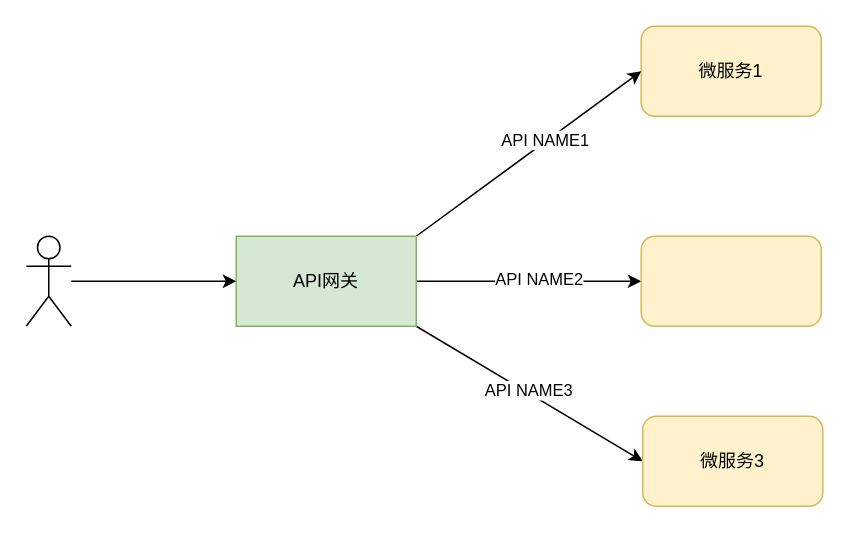
Some shapes in this 849 by 533 pixel diagram are drawn without their labels. The box of each missing label's shape, as (x1, y1, x2, y2) in pixels:
Actor: (25, 235, 71, 326)
微服务2: (640, 235, 821, 326)
